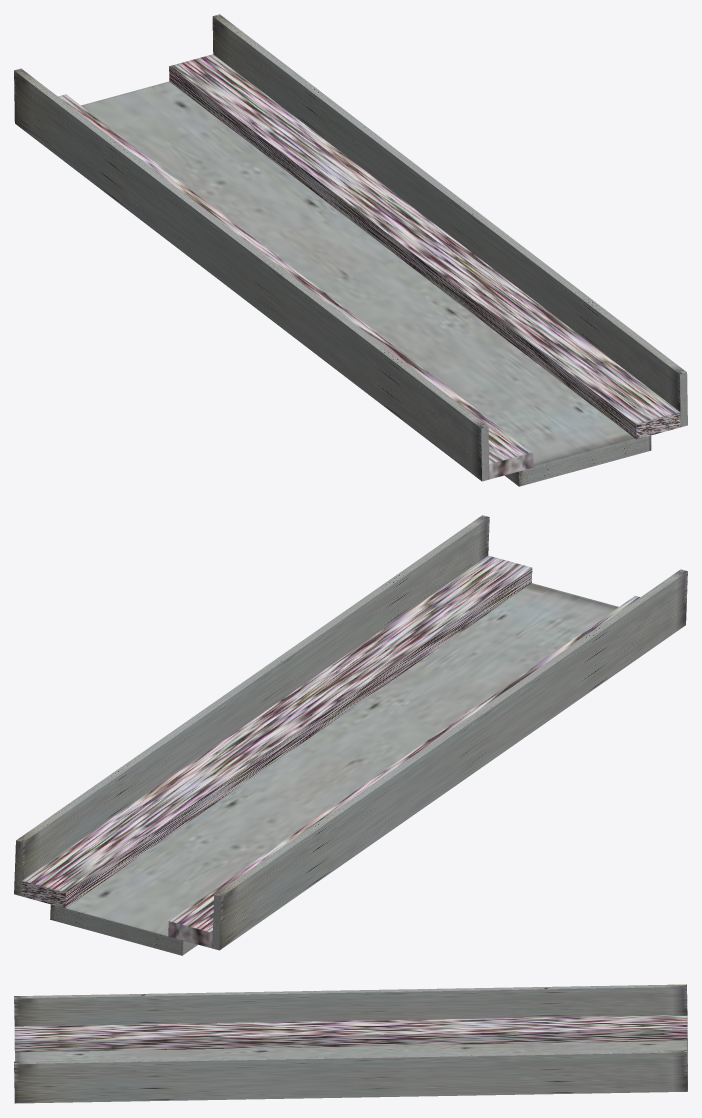
Rendered from GMLID_BUI205585_1385_1373.dae.
3 views of the same model, one above another, from view 1: azimuth 30°, elevation 25°; view 2: azimuth 150°, elevation 25°; view 3: azimuth 270°, elevation 25° (orthographic). The views are drawn at different scales.
Bounding box in the file's own units: 8.46 × 33.05 × 3.52.
Materials: 1 (1 with a texture image).
